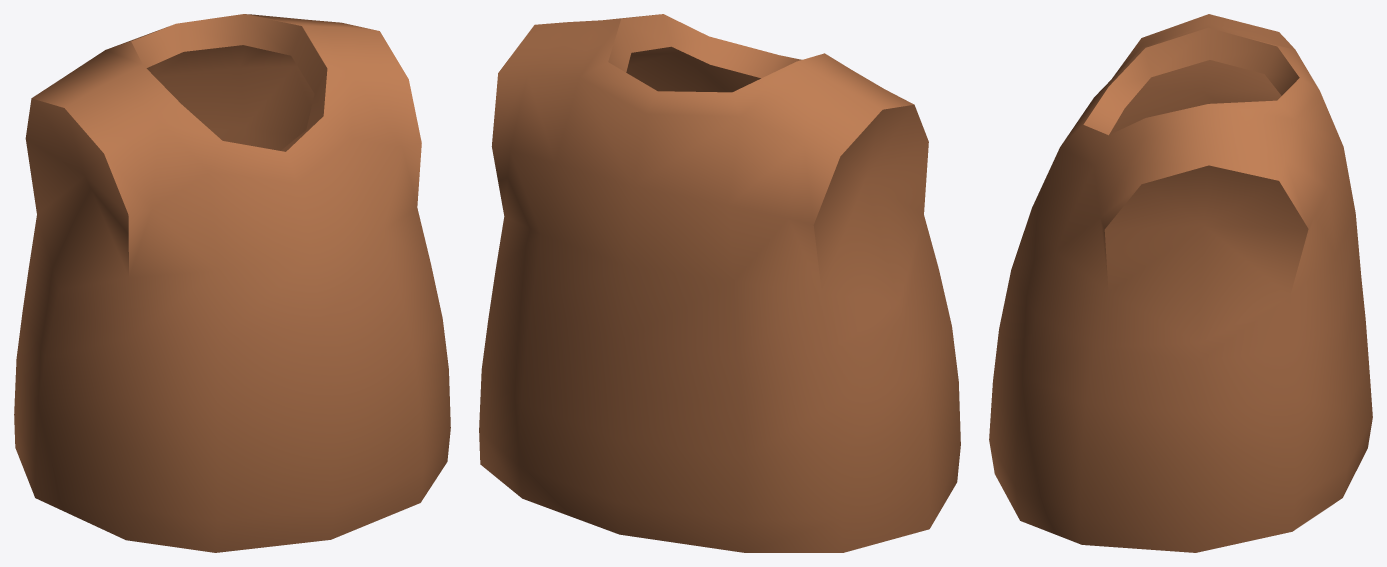
Rendered from Top_58.fbx.
3 views of the same model, side by side, from view 1: azimuth 30°, elevation 25°; view 2: azimuth 150°, elevation 25°; view 3: azimuth 270°, elevation 25° (orthographic). The views are drawn at different scales.
Parts seen in each view (by area): view 1: Top_58; view 2: Top_58; view 3: Top_58.
Part boxes in pixels (x1,y1,x2,y2): Top_58: (14,14,450,552); Top_58: (479,14,960,552); Top_58: (989,14,1372,552).
Size of the model in its own units: 40.41 by 41.36 by 35.24.
